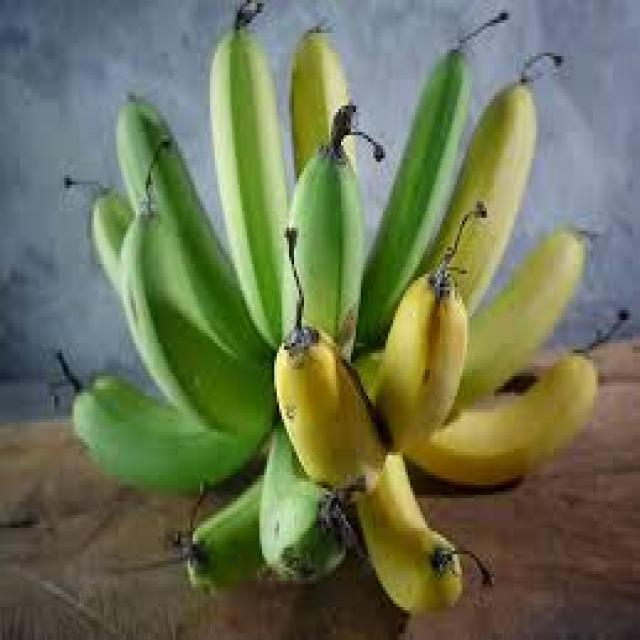banana: (64, 0, 598, 614)
